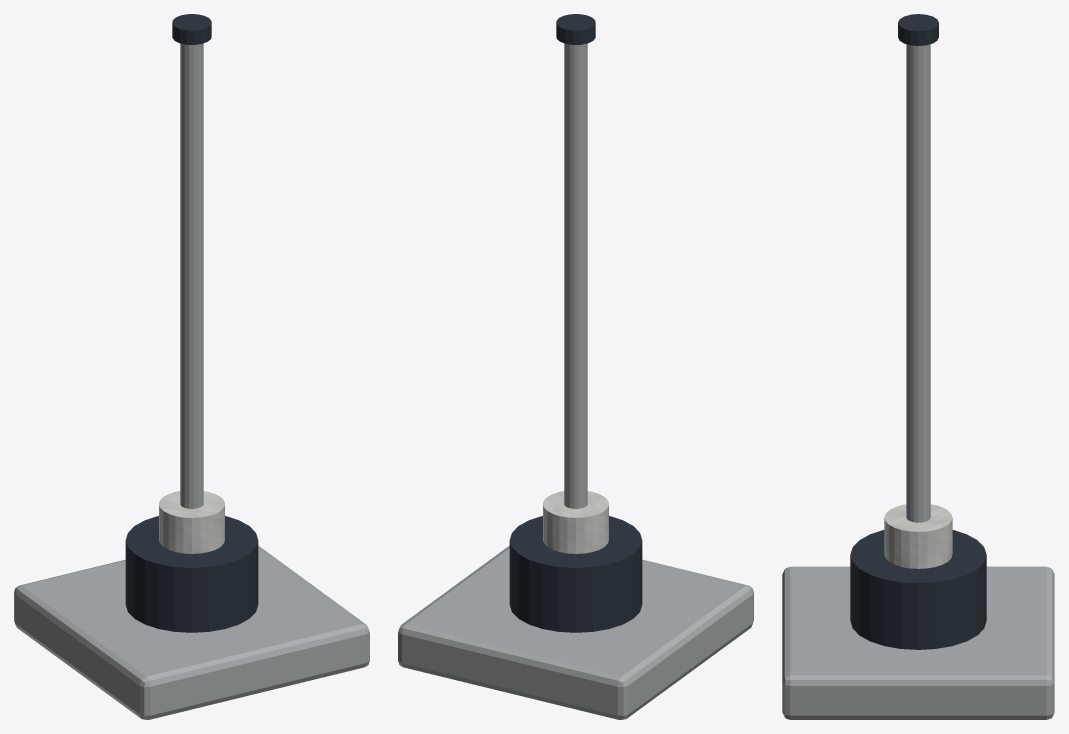
File: small_low_gain_antenna.glb
3 renders of one model, left to right at view 1: azimuth 30°, elevation 25°; view 2: azimuth 150°, elevation 25°; view 3: azimuth 270°, elevation 25°, orthographic. The views are drawn at different scales.
Visible parts, largest first — view 1: Antenna_Mount, Antenna_Base.003, Monopole_Radiator, Antenna_Insulator, Antenna_Tip; view 2: Antenna_Mount, Antenna_Base.003, Monopole_Radiator, Antenna_Insulator, Antenna_Tip; view 3: Antenna_Mount, Antenna_Base.003, Monopole_Radiator, Antenna_Insulator, Antenna_Tip.
Boxes of the visible parts, box(x1,y1,x2,y2) form: Antenna_Mount: box(14, 546, 369, 719); Antenna_Base.003: box(125, 516, 258, 632); Monopole_Radiator: box(180, 43, 203, 508); Antenna_Insulator: box(159, 491, 224, 553); Antenna_Tip: box(172, 14, 211, 44); Antenna_Mount: box(398, 546, 753, 719); Antenna_Base.003: box(509, 516, 642, 632); Monopole_Radiator: box(564, 43, 587, 508); Antenna_Insulator: box(543, 491, 608, 553); Antenna_Tip: box(556, 14, 595, 44); Antenna_Mount: box(782, 566, 1054, 719); Antenna_Base.003: box(850, 530, 986, 649); Monopole_Radiator: box(906, 44, 930, 522); Antenna_Insulator: box(884, 504, 952, 568); Antenna_Tip: box(898, 14, 938, 45).
Size of the model in its own units: 0.2 by 0.521 by 0.2.
3 materials, 1 textured.
